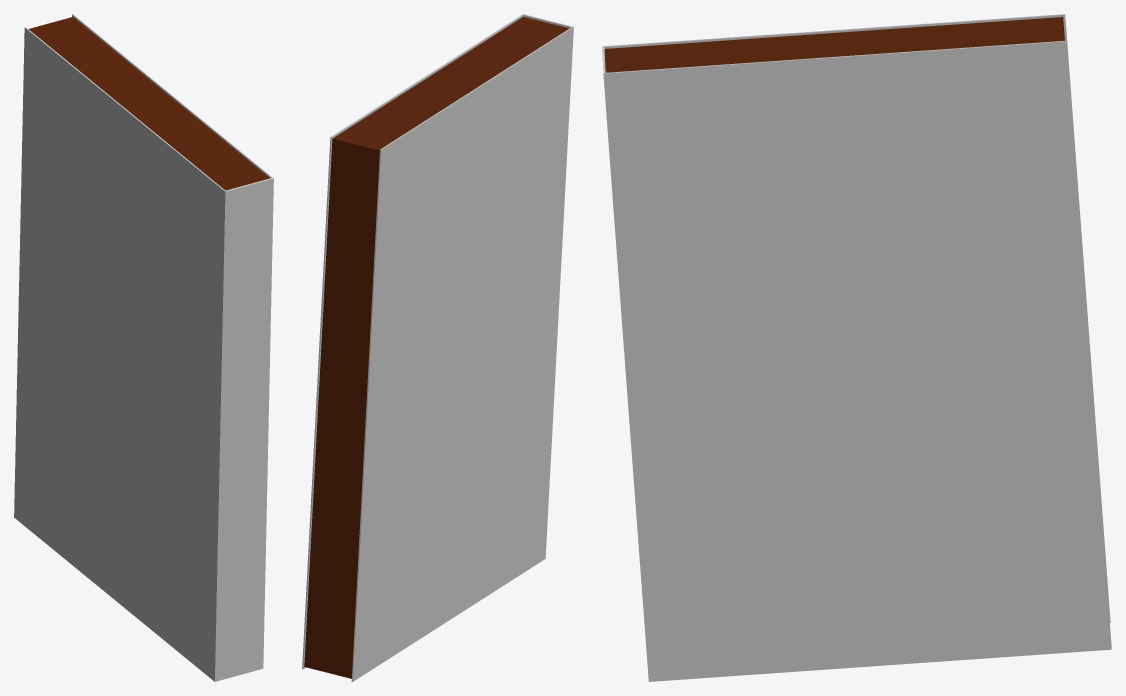
The model's file is Book6.gltf.
The picture shows the model from 3 angles, left to right: view 1: azimuth 30°, elevation 25°; view 2: azimuth 150°, elevation 25°; view 3: azimuth 270°, elevation 25°; orthographic projection. The views are drawn at different scales.
Parts seen in each view (by area): view 1: Book6; view 2: Book6; view 3: Book6.
Boxes of the visible parts, x1,y1,x2,y2 form: Book6: (14,14,273,681); Book6: (302,14,573,681); Book6: (602,14,1111,681).
Size of the model in its own units: 0.0742 by 0.588 by 0.4291.
